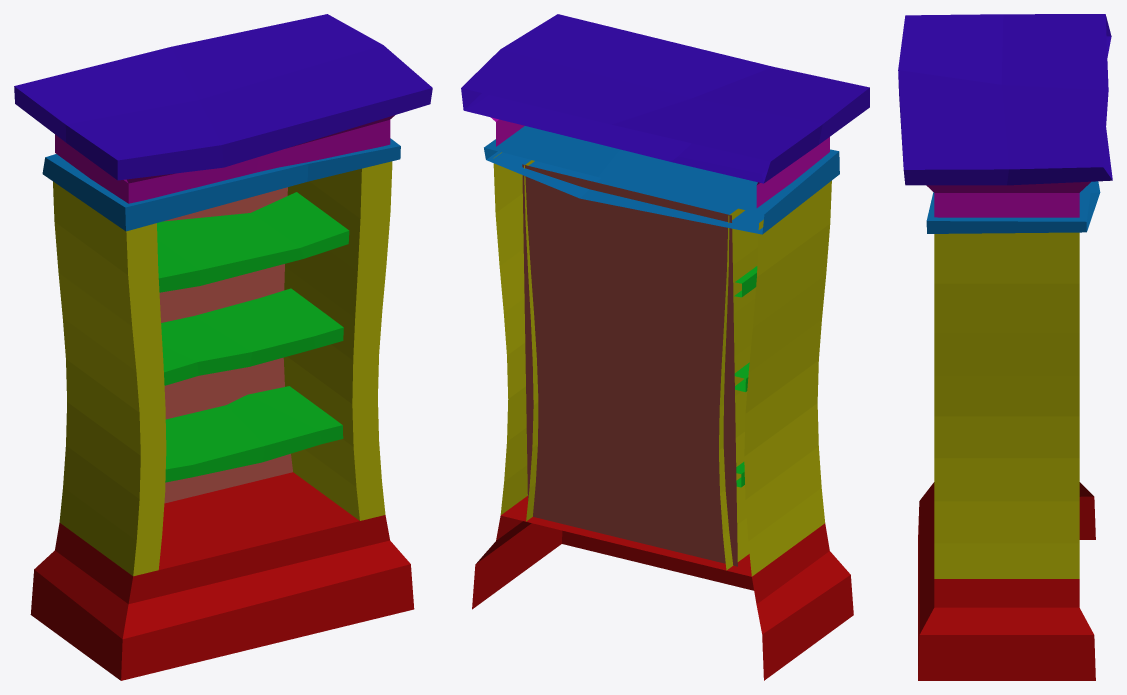
Rendered from BookShelf.fbx.
3 views of the same model, side by side, from view 1: azimuth 30°, elevation 25°; view 2: azimuth 150°, elevation 25°; view 3: azimuth 270°, elevation 25° (orthographic).
Parts seen in each view (by area): view 1: Shelf_LowPoly; view 2: Shelf_LowPoly; view 3: Shelf_LowPoly.
Part boxes in pixels (left/top/right/bottom): Shelf_LowPoly: left=14, top=14, right=432, bottom=680; Shelf_LowPoly: left=461, top=14, right=869, bottom=680; Shelf_LowPoly: left=898, top=14, right=1112, bottom=680.
Bounding box in the file's own units: 503 × 791 × 296.
